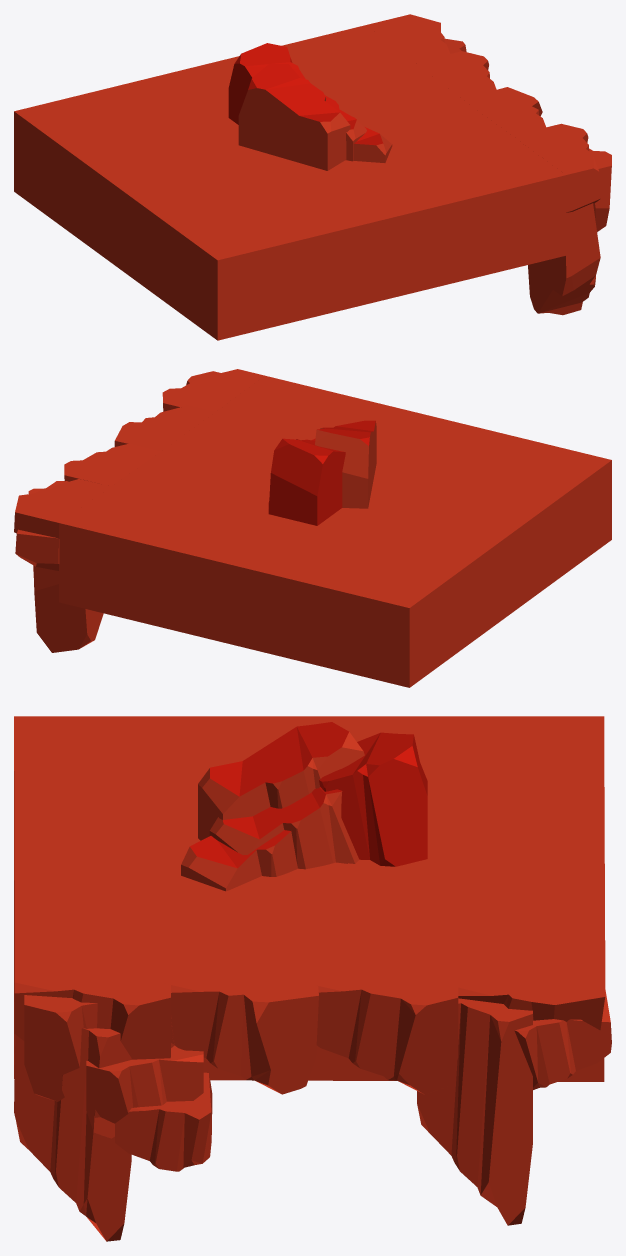
File: SUNWOO_UNITY_16.fbx
3 renders of one model, top to bottom at view 1: azimuth 30°, elevation 25°; view 2: azimuth 150°, elevation 25°; view 3: azimuth 270°, elevation 25°, orthographic. The views are drawn at different scales.
Parts seen in each view (by area): view 1: Rock.031; view 2: Rock.031; view 3: Rock.031.
Boxes of the visible parts, <box> form: Rock.031: <box>14,14,611,340</box>; Rock.031: <box>14,369,611,687</box>; Rock.031: <box>14,716,611,1241</box>.
Bounding box in the file's own units: 488 × 415 × 273.
